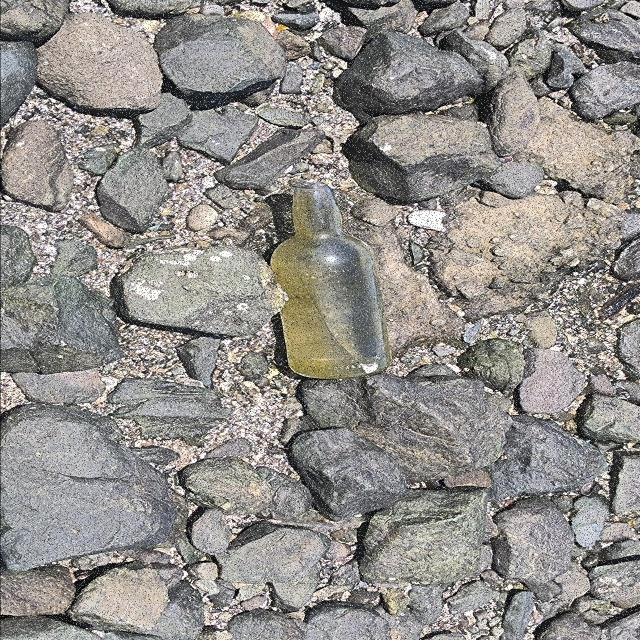glass_waste: (271, 183, 394, 380)
